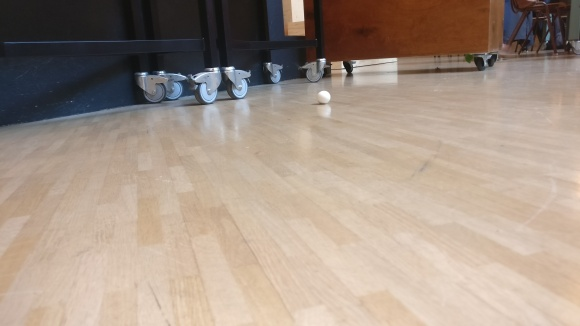egg: (316, 90, 331, 104)
